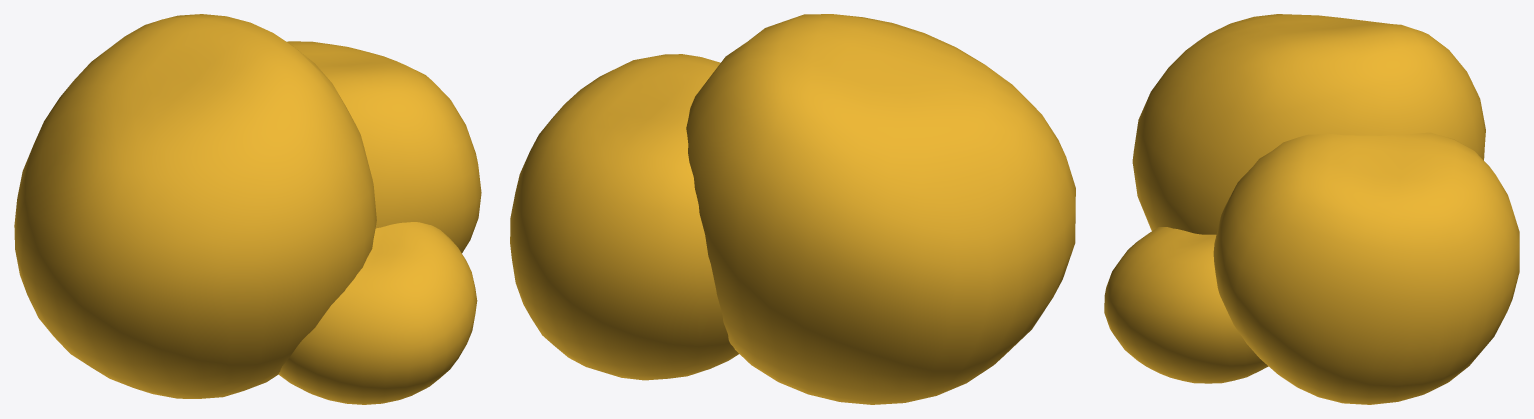
Rendered from Shrub_Top_A_03.fbx.
3 renders of one model, left to right at view 1: azimuth 30°, elevation 25°; view 2: azimuth 150°, elevation 25°; view 3: azimuth 270°, elevation 25°, orthographic. The views are drawn at different scales.
Parts seen in each view (by area): view 1: Shrub_Top_A_03_LOD0; view 2: Shrub_Top_A_03_LOD0; view 3: Shrub_Top_A_03_LOD0.
Part boxes in pixels (x1,y1,x2,y2): Shrub_Top_A_03_LOD0: (14,14,481,404); Shrub_Top_A_03_LOD0: (510,14,1075,404); Shrub_Top_A_03_LOD0: (1104,14,1519,404).
Size of what is drawn, in the model's own units: 749 by 527 by 642.
